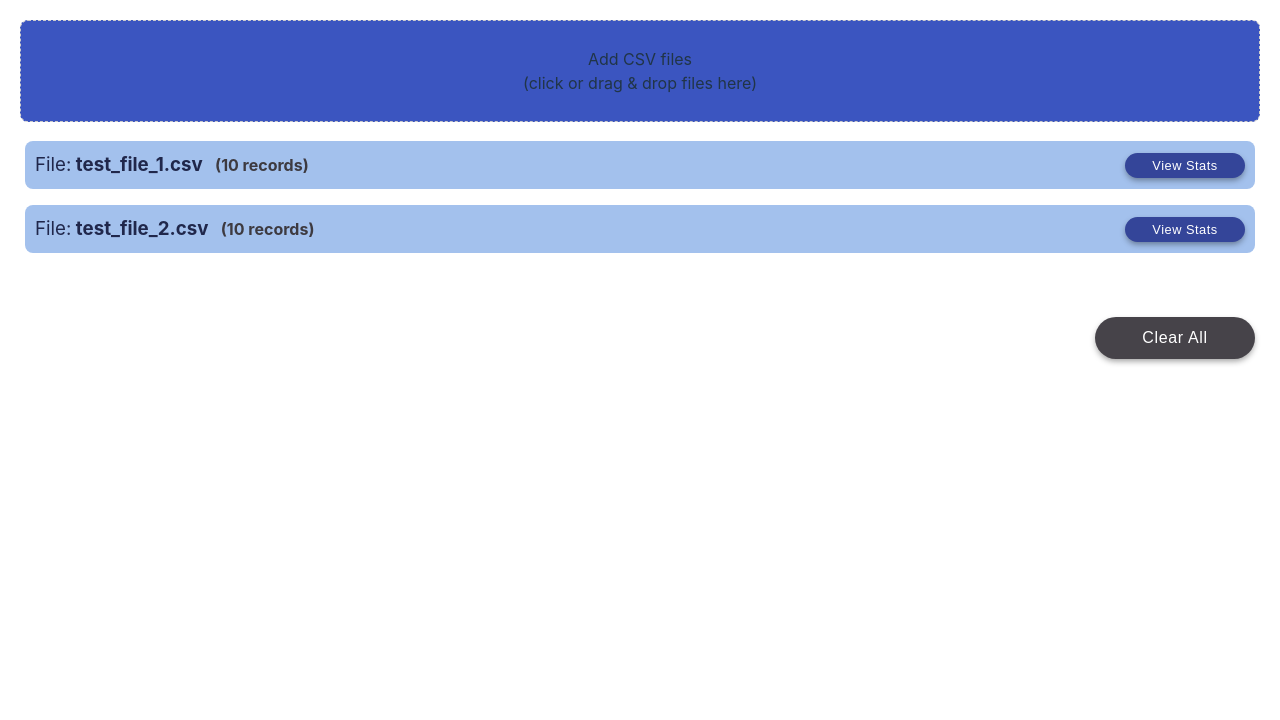
it: Application › shoud render multiple csv file stats cards
Expected: the heading "File: test_file_1.csv (10 records)" is shown, [35,151,309,179]
Expected: the heading "File: test_file_2.csv (10 records)" is shown, [35,215,314,243]
expand card 1
Click the button "View Stats" in the row of "test_file_1.csv".
click(1185, 165)  # box [1125,152,1245,178]
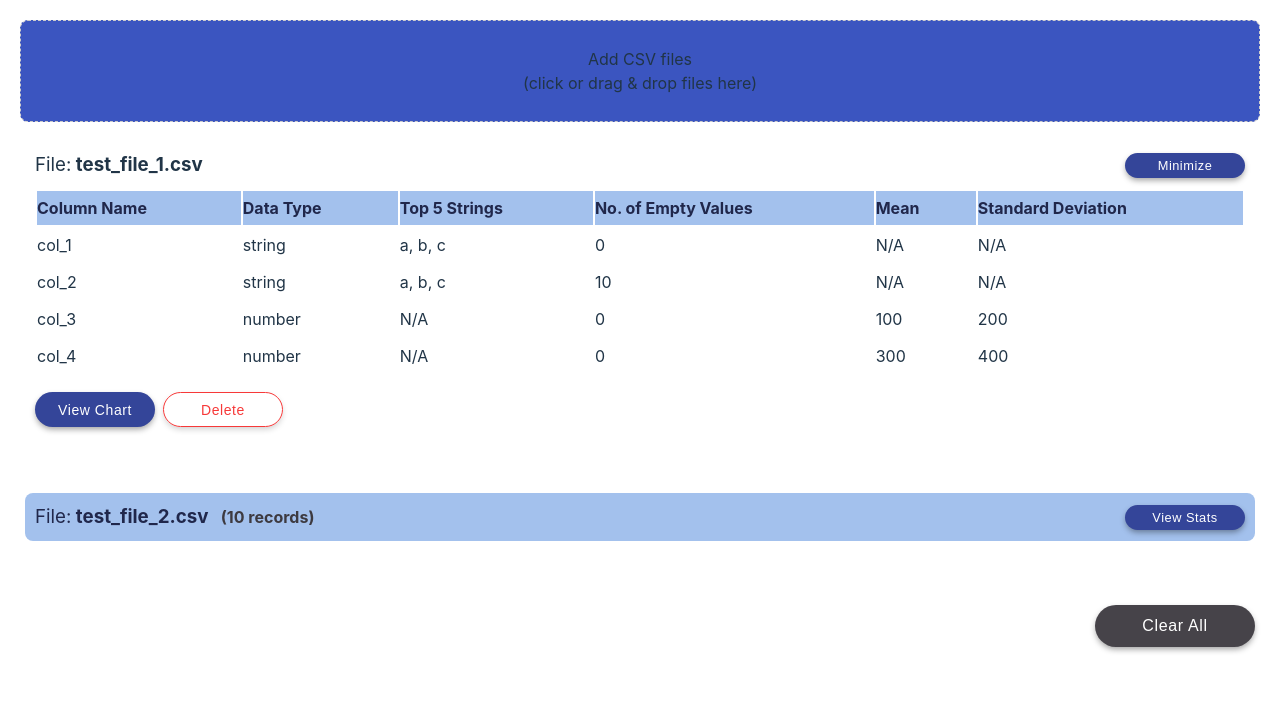
Now the text "col_1" is shown, box [37,228,241,263]
Now the text "col_2" is shown, box [37,265,241,300]
Now the text "col_3" is shown, box [37,302,241,337]
minimize card 1
Click the button "Minimize".
click(1185, 165)  # box [1125,152,1245,178]
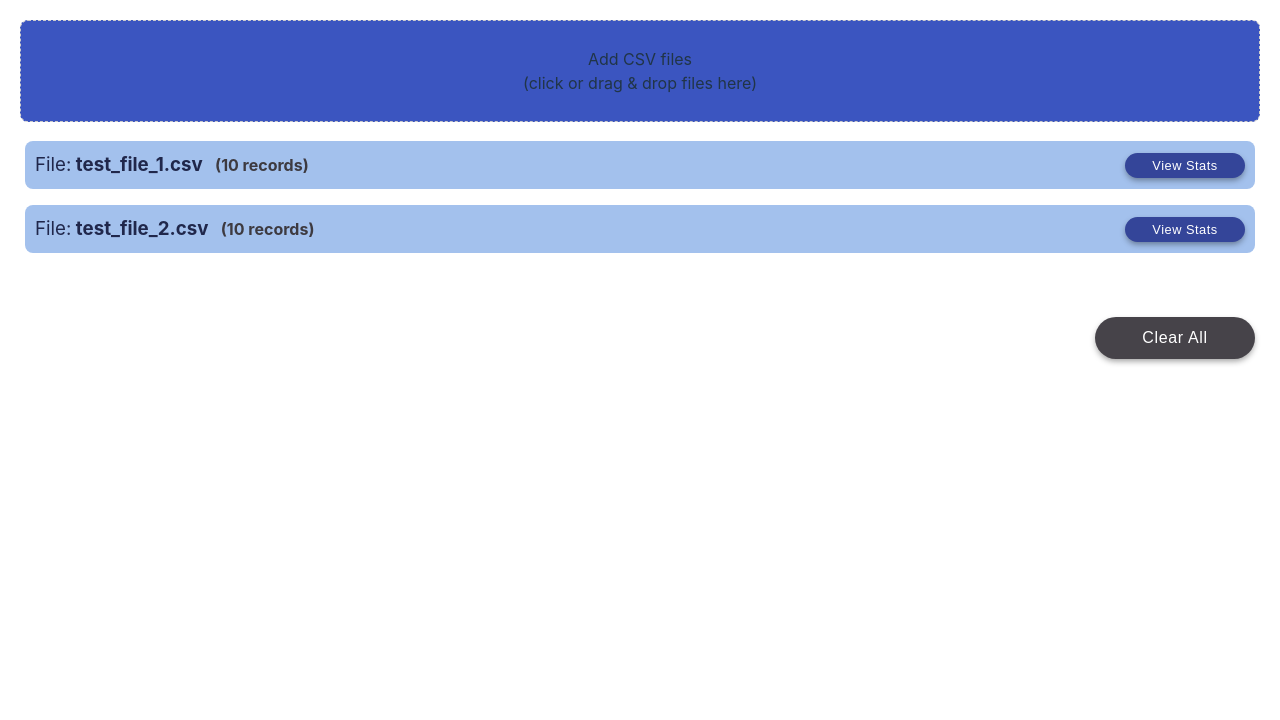
Now the text "col_1" is gone
Now the text "col_2" is gone
Now the text "col_3" is gone
expand card 2
Click the button "View Stats" in the row of "test_file_2.csv".
click(1185, 229)  # box [1125,217,1245,242]
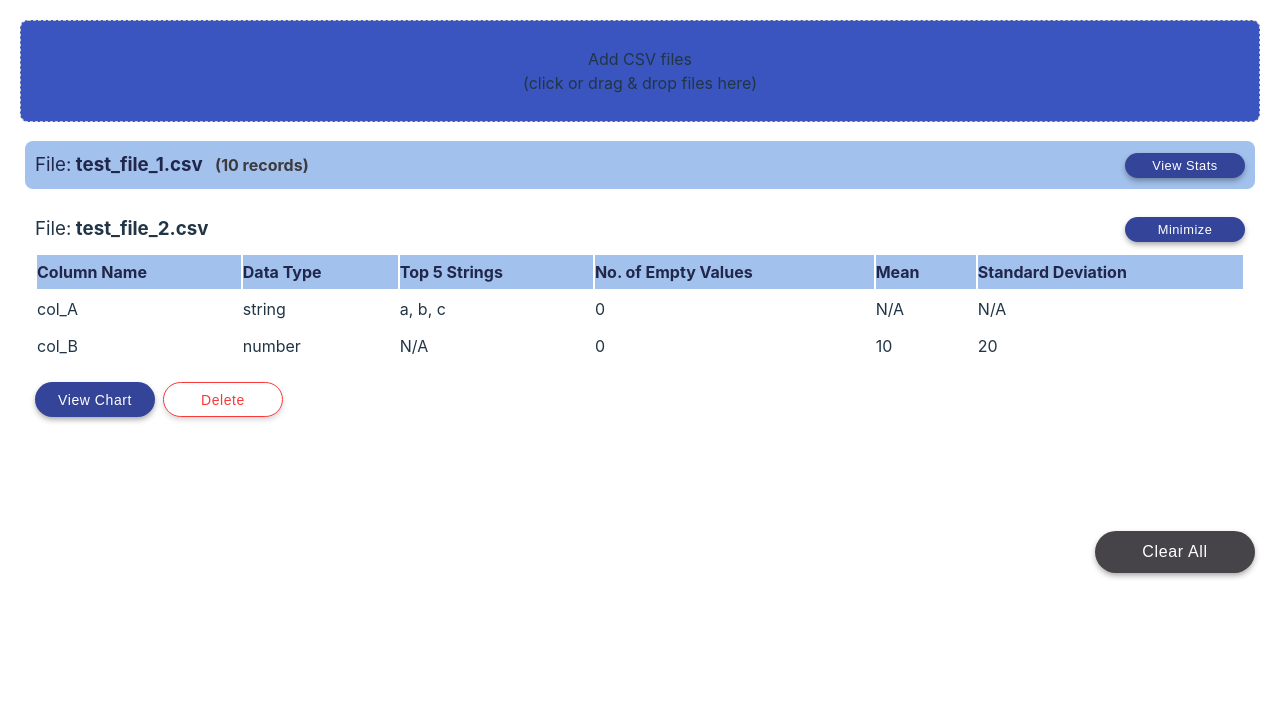
Now the text "col_A" is shown, box [37,292,241,327]
Now the text "col_B" is shown, box [37,329,241,364]
Now the text "string" is shown once, box [243,292,398,327]
minimize card 2
Click the button "Minimize".
click(1185, 229)  # box [1125,217,1245,242]
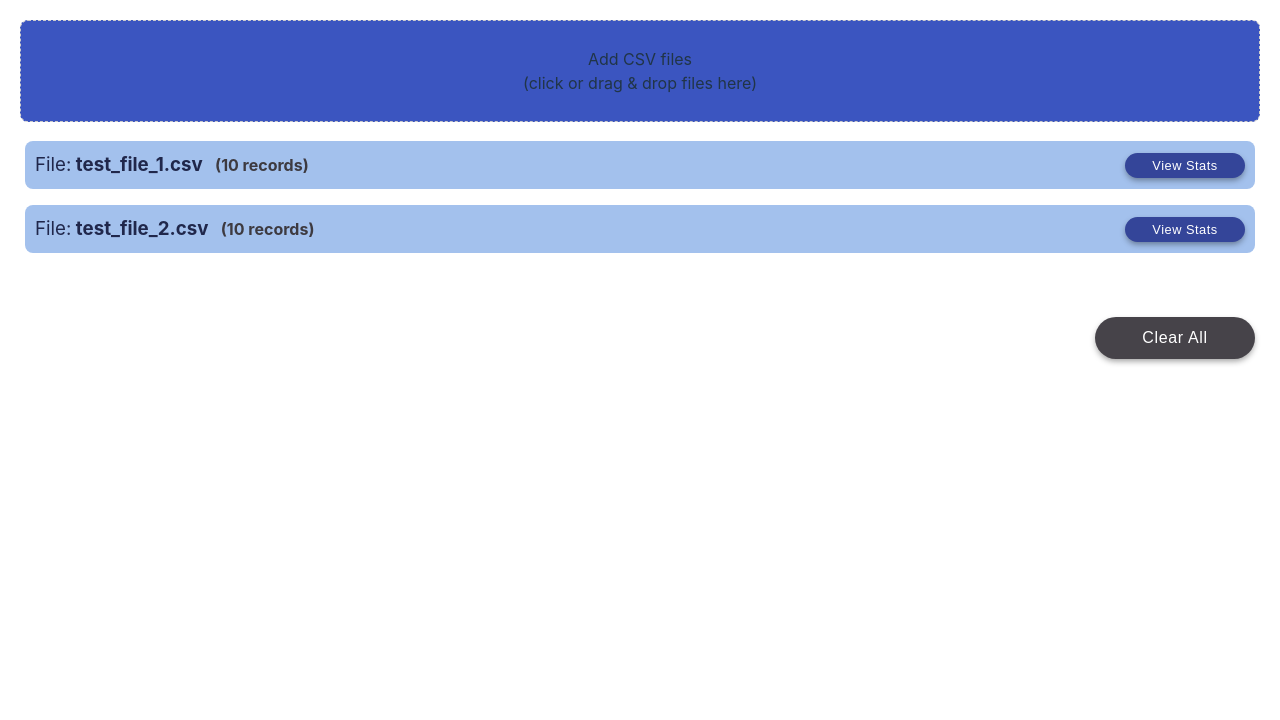
Now the text "col_A" is gone
Now the text "col_B" is gone
